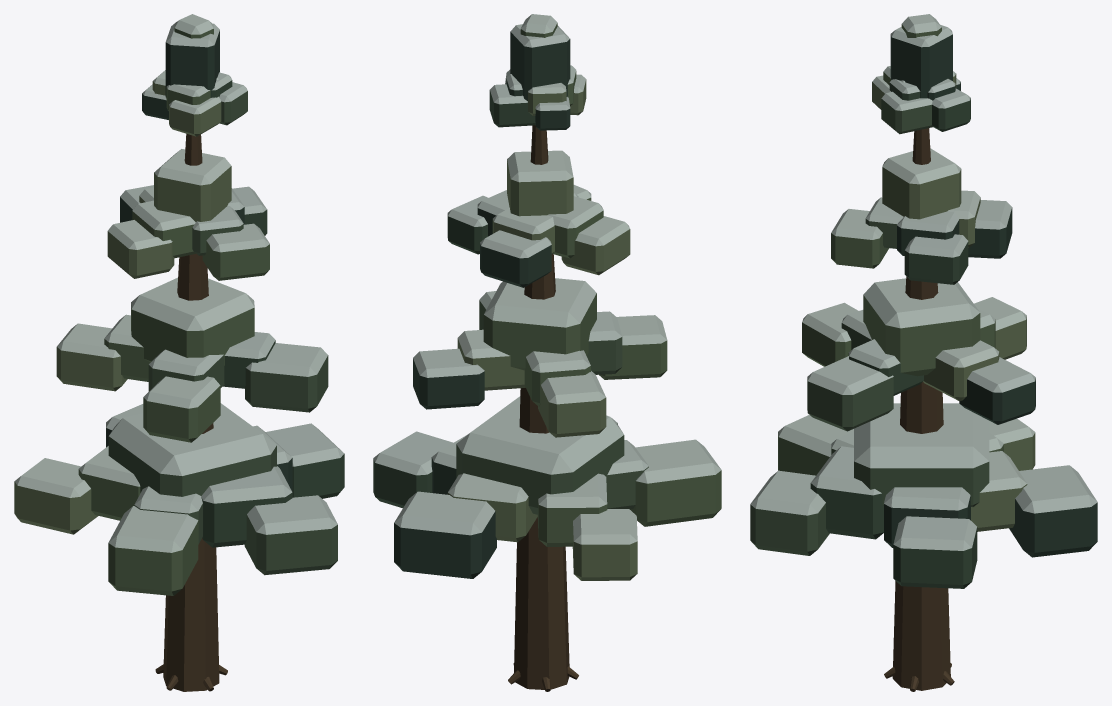
Rendered from pine_sapling_winter.glb.
3 renders of one model, left to right at view 1: azimuth 30°, elevation 25°; view 2: azimuth 150°, elevation 25°; view 3: azimuth 270°, elevation 25°, orthographic.
Parts seen in each view (by area): view 1: pine_sapling_winter; view 2: pine_sapling_winter; view 3: pine_sapling_winter.
Part boxes in pixels (x1,y1,x2,y2): pine_sapling_winter: (14, 14, 344, 691); pine_sapling_winter: (373, 14, 721, 691); pine_sapling_winter: (750, 14, 1097, 691).
Size of the model in its own units: 3.59 by 8 by 3.82.
